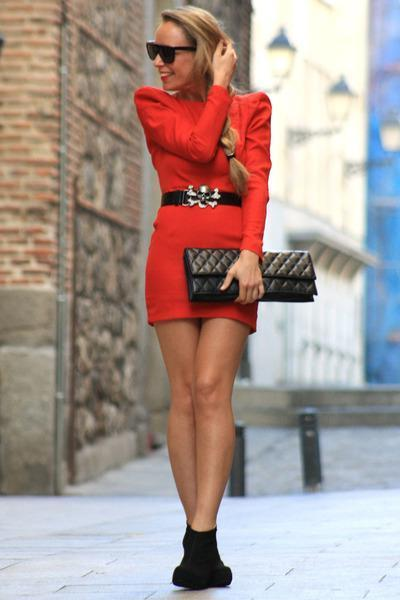dress: (136, 83, 271, 331)
